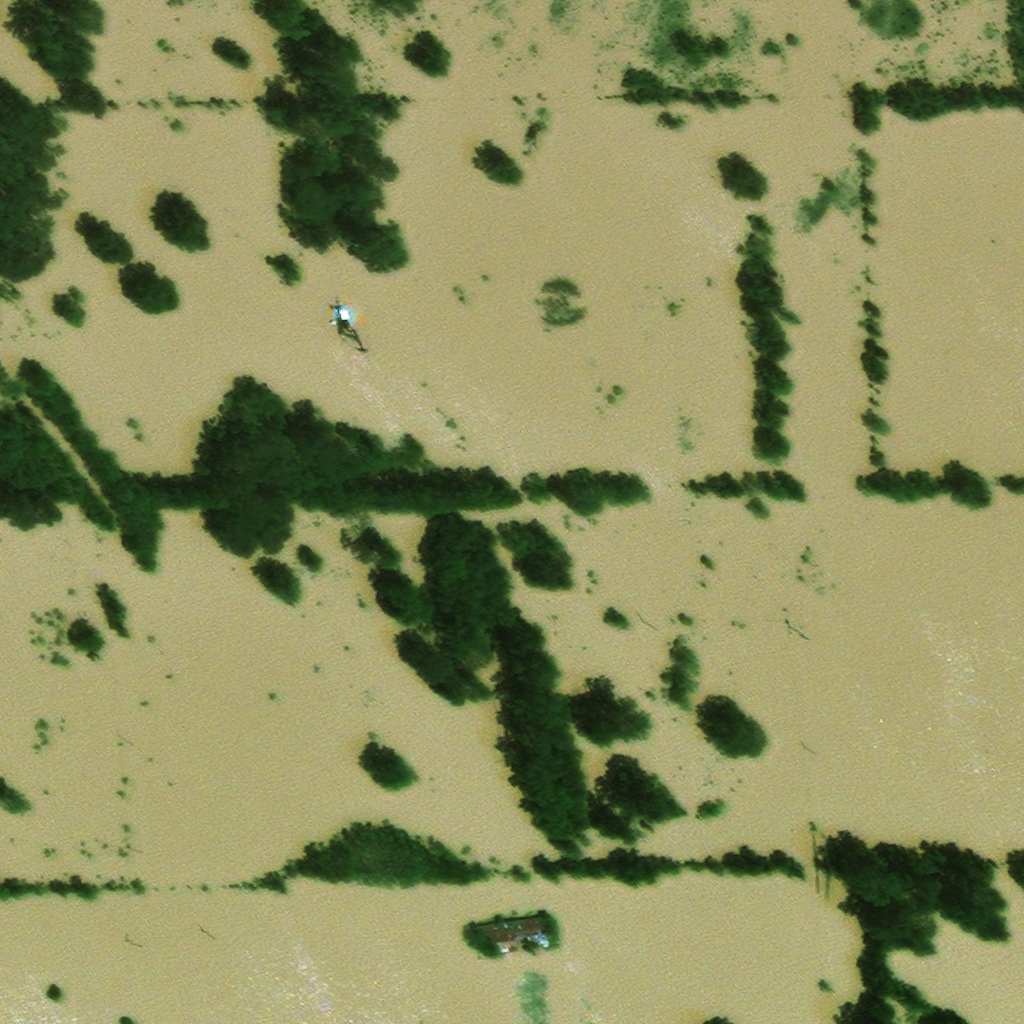major_damage: (477, 920, 552, 961)
